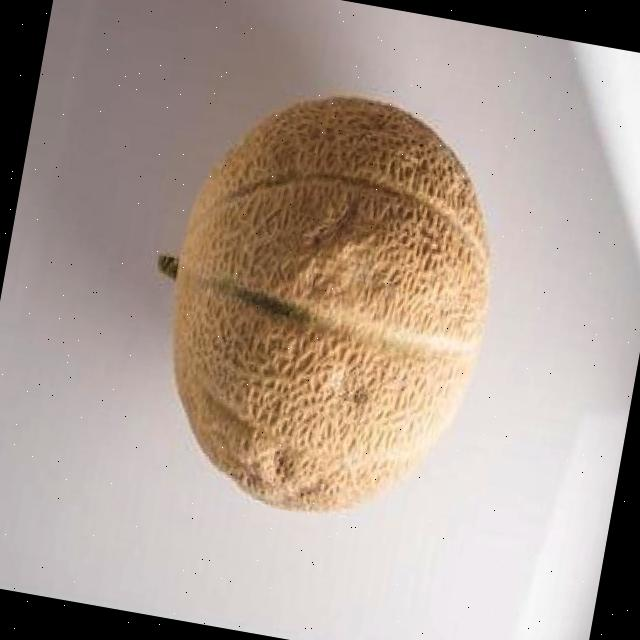Hami Melon: (136, 69, 518, 534)
